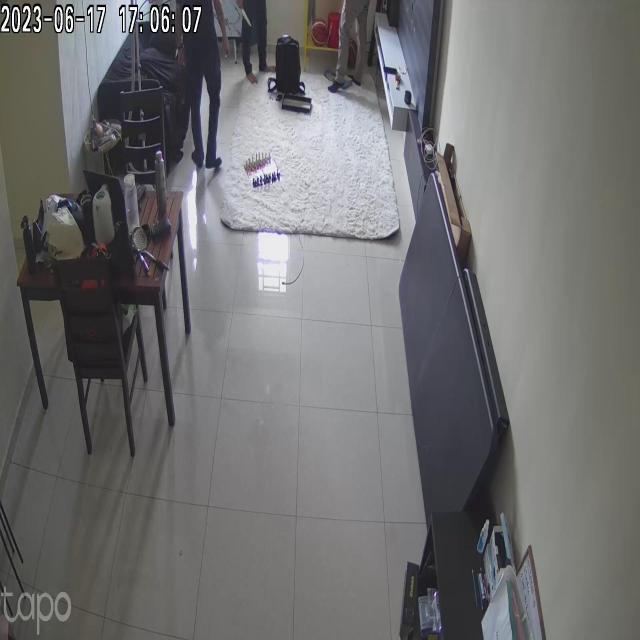Knife: (235, 5, 259, 34)
